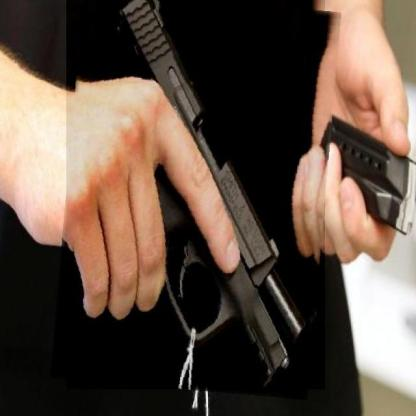handgun: (58, 0, 333, 395)
